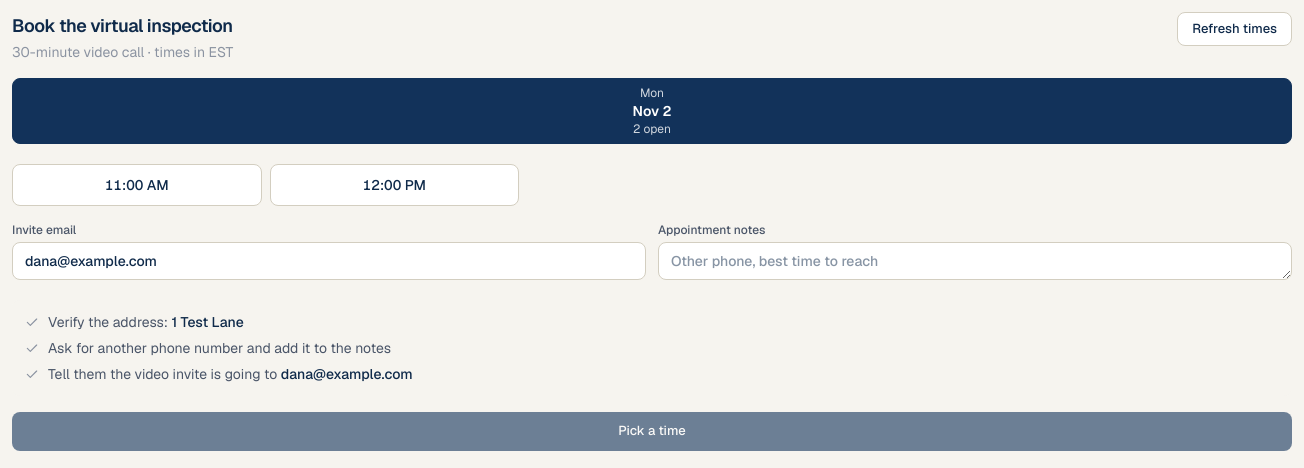
Test case: setter virtual booking › loads real times as soon as the lead is claimed, then books with the confirmed email
The width and height of the screenshot is (1304, 468).
Click the button "11:00 AM": click(137, 185) [12,164,262,206]
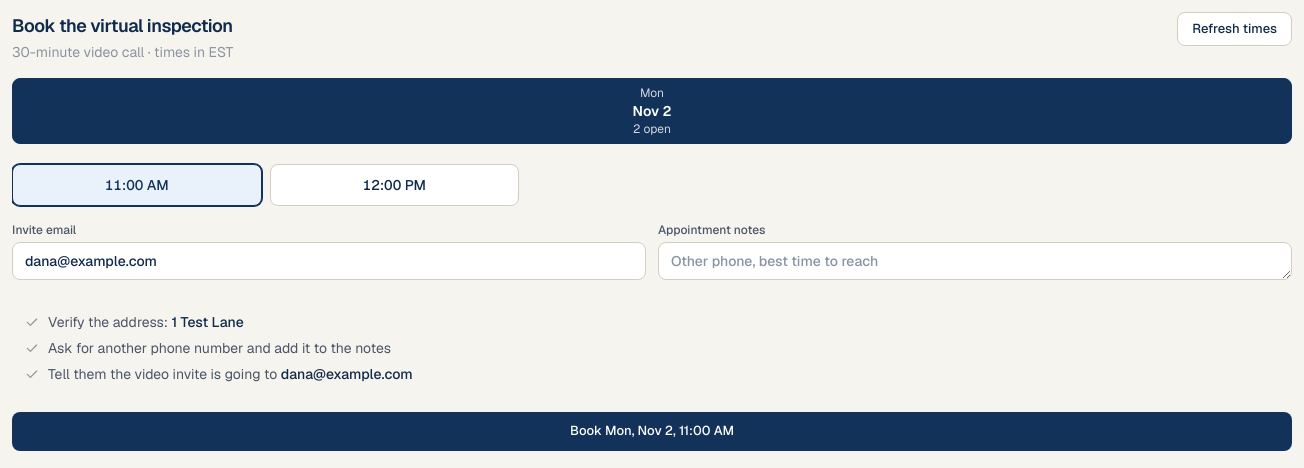
Replace the text in the field labelled "Invite email" with "homeowner@example.com": (329, 261) [12,242,646,280]
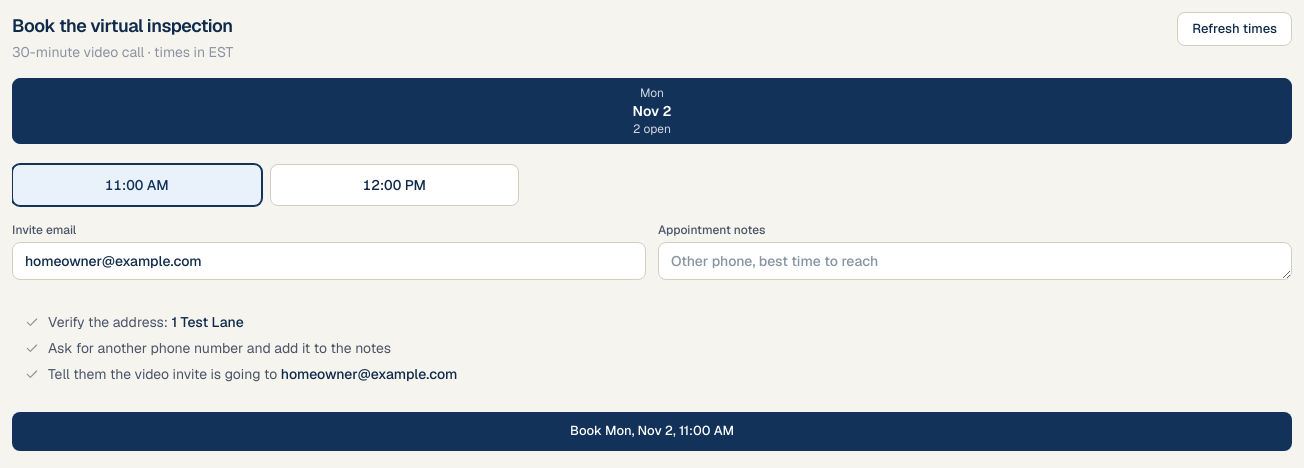
In the text box labelled "Appointment notes": (975, 261) [658,242,1292,280], type "Alt phone 609-555-0199"
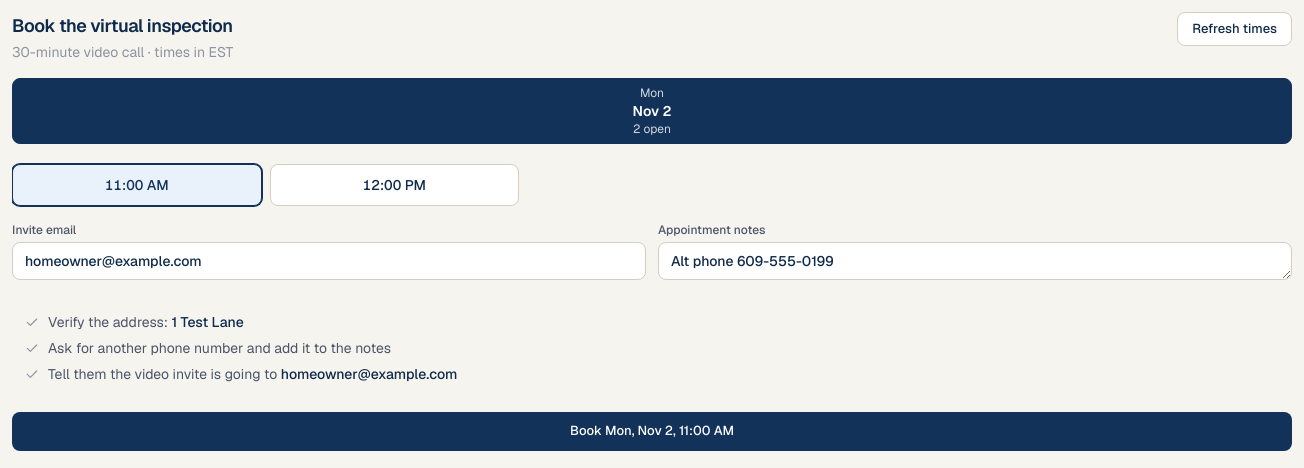
Expected: the list named "Before you book" shows "homeowner@example.com", [281,365,458,383]
Click the button "Book Mon, Nov 2, 11:00 AM": click(652, 431) [12,412,1292,451]
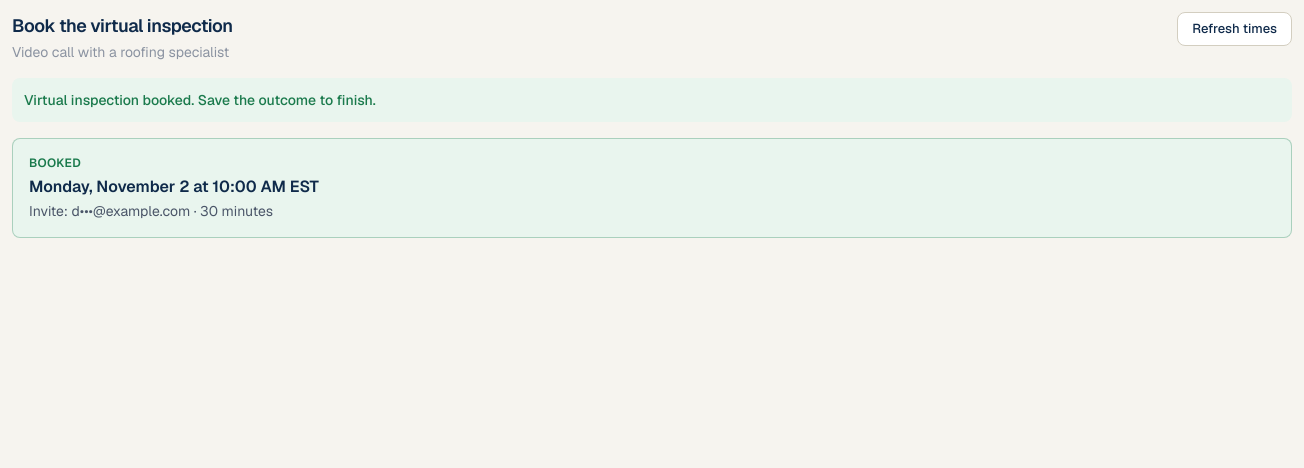
Expected: the message shows "Save the outcome to finish", [24,91,376,109]
